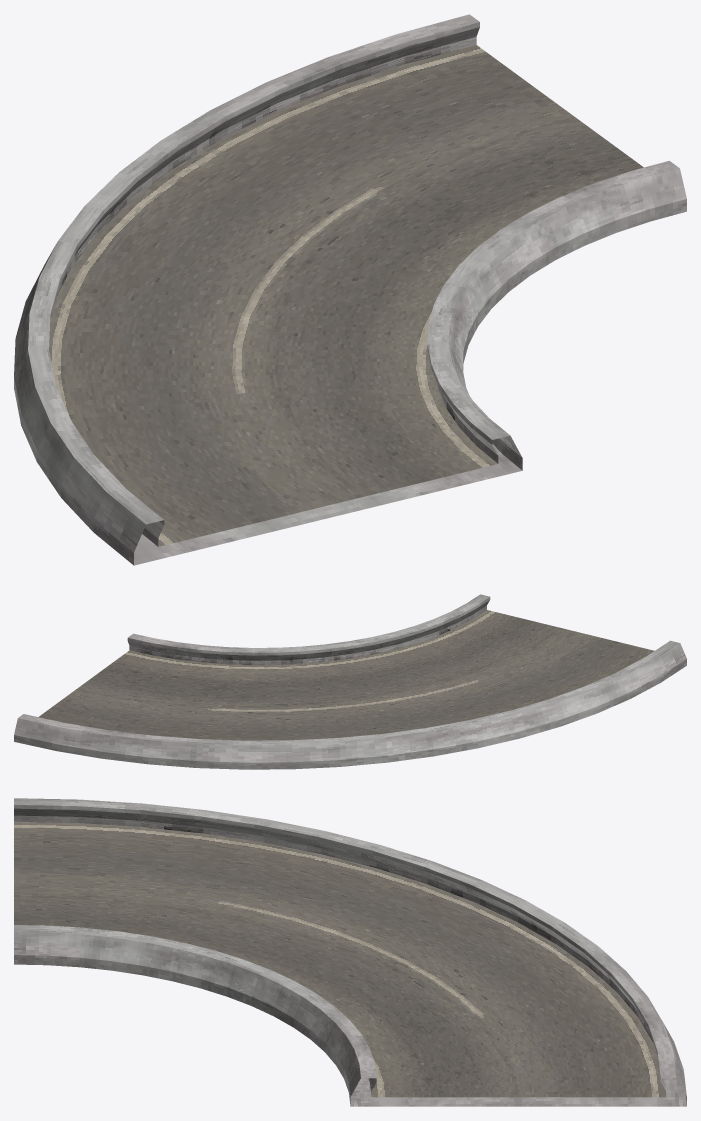
The model's file is turn-right2x2.glb.
3 renders of one model, top to bottom at view 1: azimuth 30°, elevation 25°; view 2: azimuth 150°, elevation 25°; view 3: azimuth 270°, elevation 25°, orthographic. The views are drawn at different scales.
Parts seen in each view (by area): view 1: road-Turn-Flat-Flat-Even-Right-Size2; view 2: road-Turn-Flat-Flat-Even-Right-Size2; view 3: road-Turn-Flat-Flat-Even-Right-Size2.
Part boxes in pixels (<box>): road-Turn-Flat-Flat-Even-Right-Size2: <box>14,14,686,565</box>; road-Turn-Flat-Flat-Even-Right-Size2: <box>14,594,686,769</box>; road-Turn-Flat-Flat-Even-Right-Size2: <box>14,798,686,1106</box>.
Size of the model in its own units: 2 by 0.0938 by 2.
2 materials, 2 textured.
